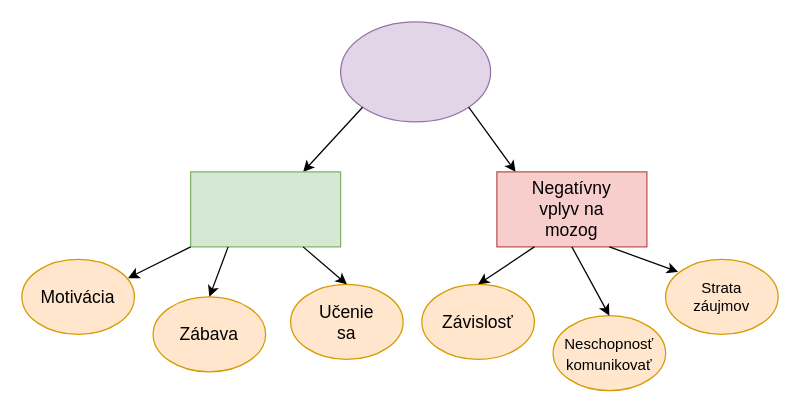
Some shapes in this 800 by 413 pixel diagram are drawn without their labels. Here are the shapes that lost their labels. From the top down, the centre of each, then its label:
At (415,71): "Hry".
At (265,209): "Pozitívny vplyv na mozog".
